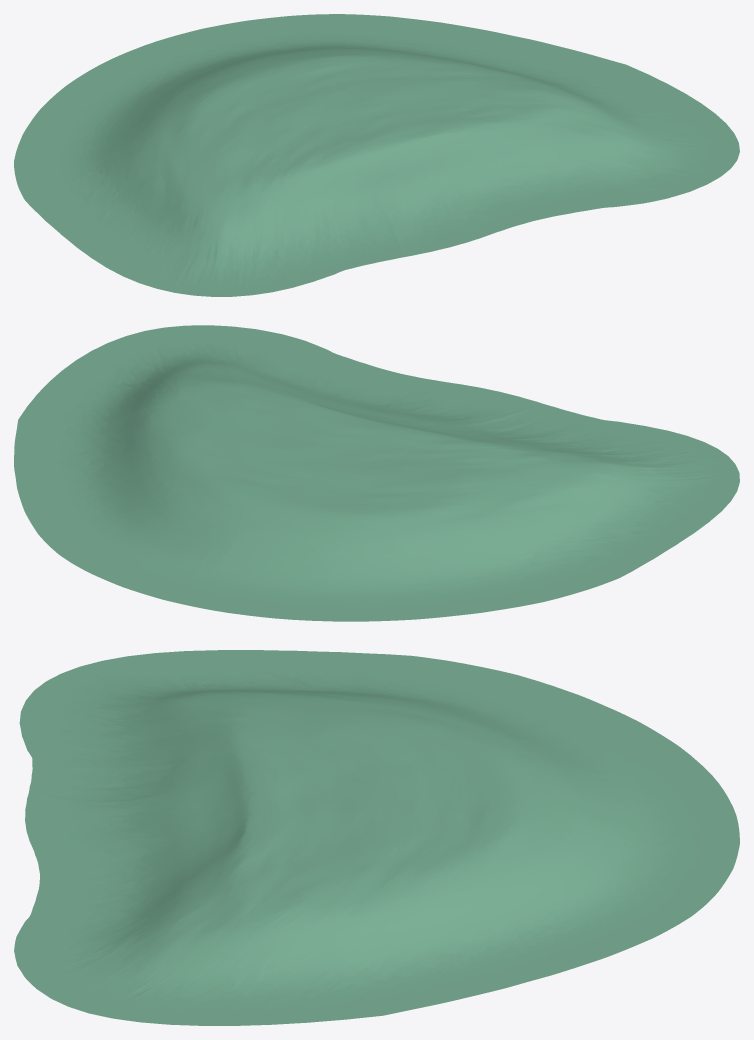
The model's file is island_circular_C_E.fbx.
The picture shows the model from 3 angles, top to bottom: view 1: azimuth 30°, elevation 25°; view 2: azimuth 150°, elevation 25°; view 3: azimuth 270°, elevation 25°; orthographic projection. The views are drawn at different scales.
Visible parts, largest first — view 1: island_circular_C_E; view 2: island_circular_C_E; view 3: island_circular_C_E.
Part boxes in pixels (x1,y1,x2,y2): island_circular_C_E: (14,14,739,296); island_circular_C_E: (14,325,739,621); island_circular_C_E: (14,650,739,1025).
Size of the model in its own units: 31875 by 1535 by 26013.
